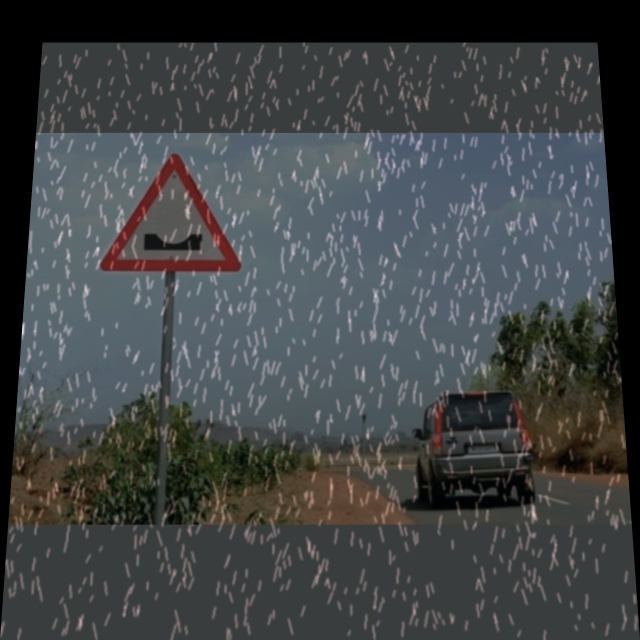Dangerous_Dip: (98, 152, 243, 273)
